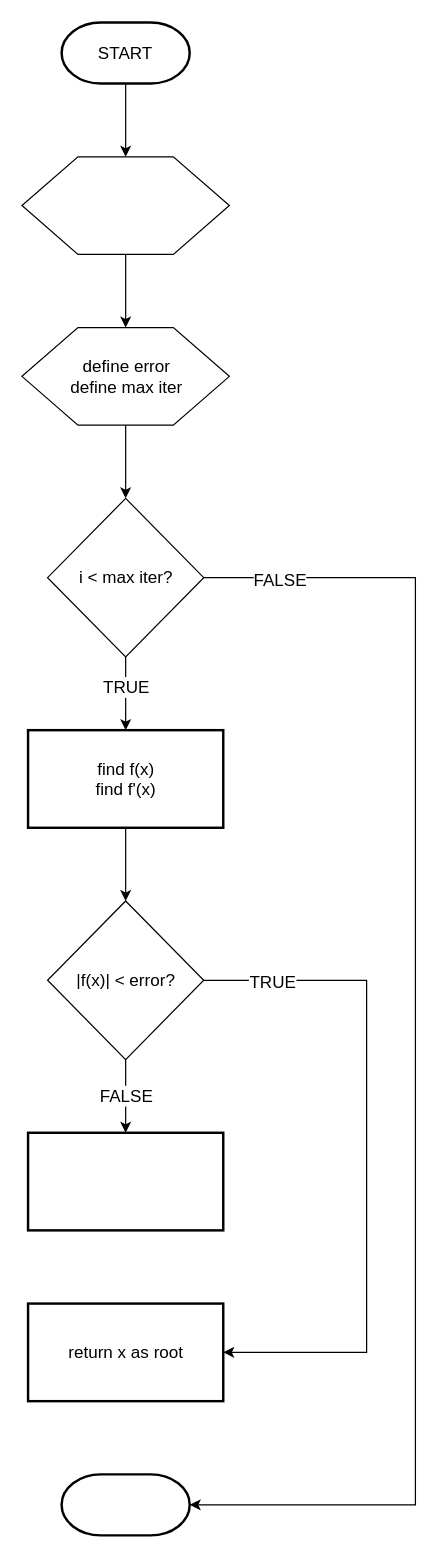
This 447x1557 diagram has some shape labels left out. The shapes that lost their labels are listed below. From the top down, each one's centre as x and y in pixels, then its label:
point (125, 205): define f(x) define f'(x)
point (125, 1181): x = x - (f(x) / f'(x))
point (125, 1504): END
